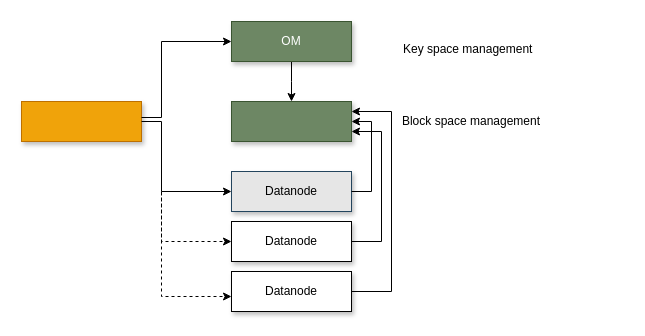
The diagram is 645 pixels wide and 336 high, and some of its shapes have lost their labels. Here are the shapes that lost their labels. From the top down, the centre of each, then its label:
At (x=82, y=122): "Ozone Client".
At (x=292, y=122): "SCM".
